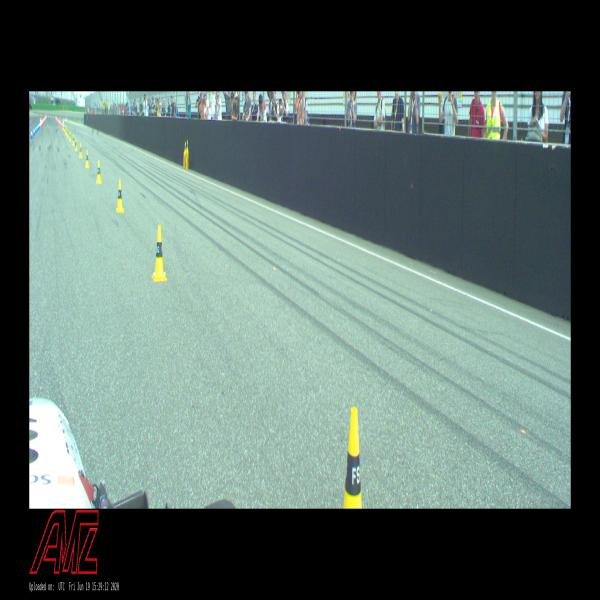blue_cone: (30, 129, 34, 139), (34, 127, 36, 136), (35, 125, 37, 133), (37, 124, 38, 131)
yellow_cone: (343, 407, 362, 509), (152, 225, 167, 281), (117, 180, 124, 213), (96, 160, 102, 184), (85, 150, 90, 168), (79, 143, 83, 158), (75, 138, 78, 150), (72, 135, 75, 145), (69, 132, 72, 142), (67, 130, 69, 138), (66, 127, 67, 135)
